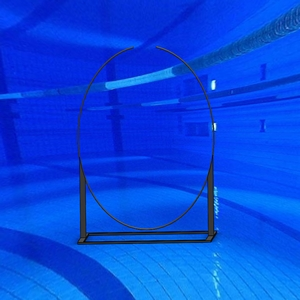circle: (76, 45, 217, 244)
